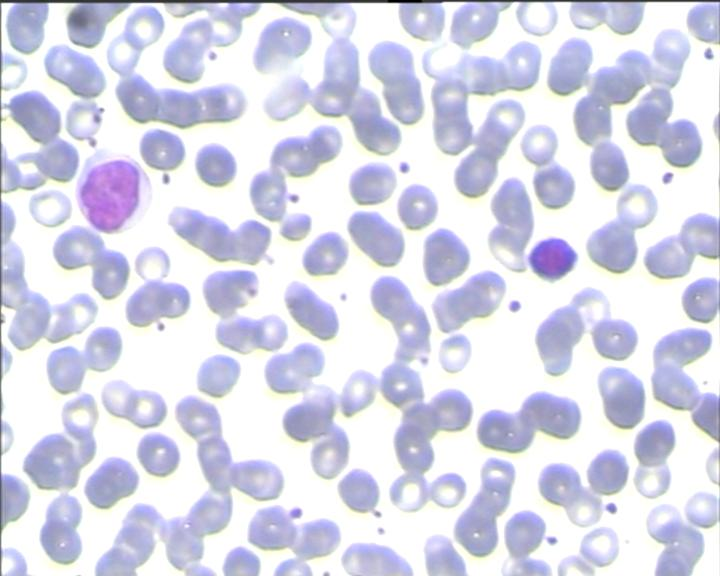lymp: (69, 144, 161, 235), (526, 237, 579, 282)
